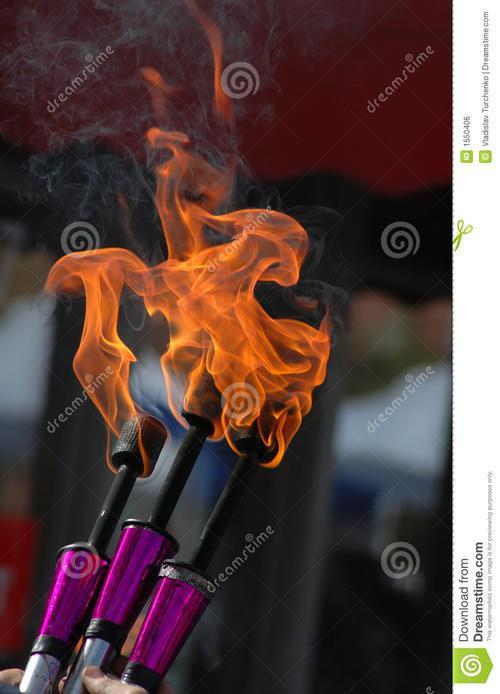fire: (36, 73, 333, 458)
